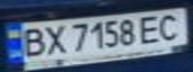1: (87, 19, 109, 51)
5: (103, 17, 124, 48)
7: (66, 20, 90, 53)
8: (118, 16, 139, 47)
B: (15, 25, 48, 58)
C: (154, 11, 190, 42)
E: (136, 12, 166, 45)
X: (39, 22, 69, 56)
